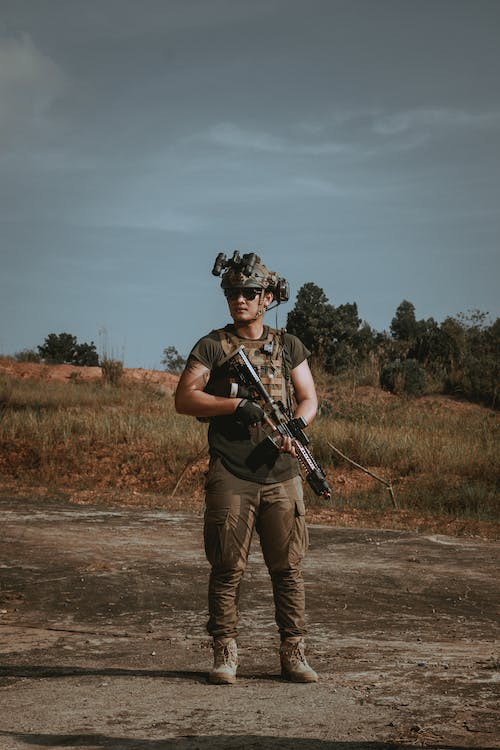gun: (211, 345, 335, 504)
